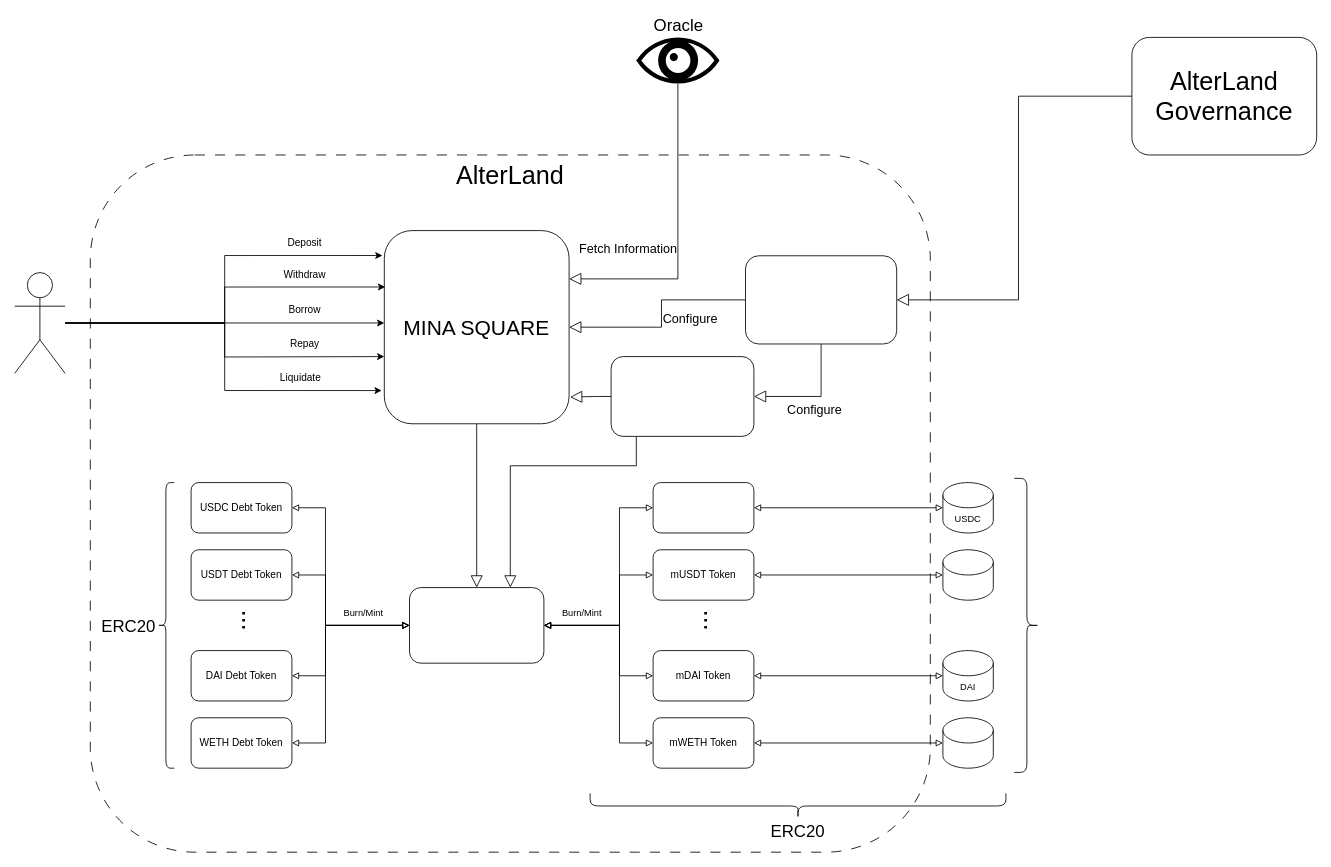
The diagram is 1331 pixels wide and 867 high, and some of its shapes have lost their labels. The box of each missing label's shape, as (x1, y1, x2, y2) in pixels:
AlterLand Configurator: (745, 255, 897, 344)
Collateral Manager: (409, 587, 544, 663)
Lendint Rate Calculatator: (610, 356, 754, 436)
mUSDC Token: (652, 482, 754, 533)
Reserves: (1013, 478, 1040, 772)
USDT: (942, 549, 993, 600)
User: (14, 272, 65, 373)
WETH: (942, 717, 993, 768)
